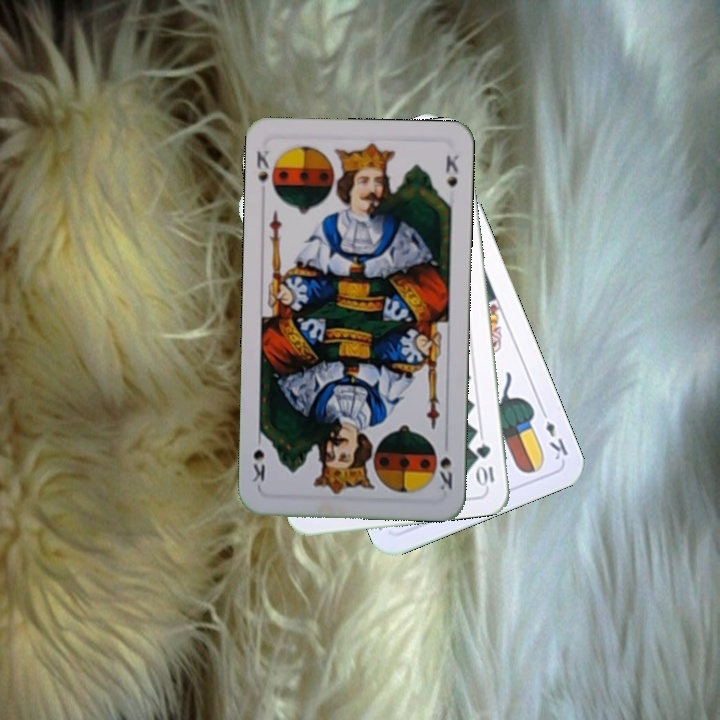EK: (536, 405, 571, 463)
G10: (472, 440, 497, 489)
SK: (434, 436, 455, 493), (252, 147, 272, 186)
